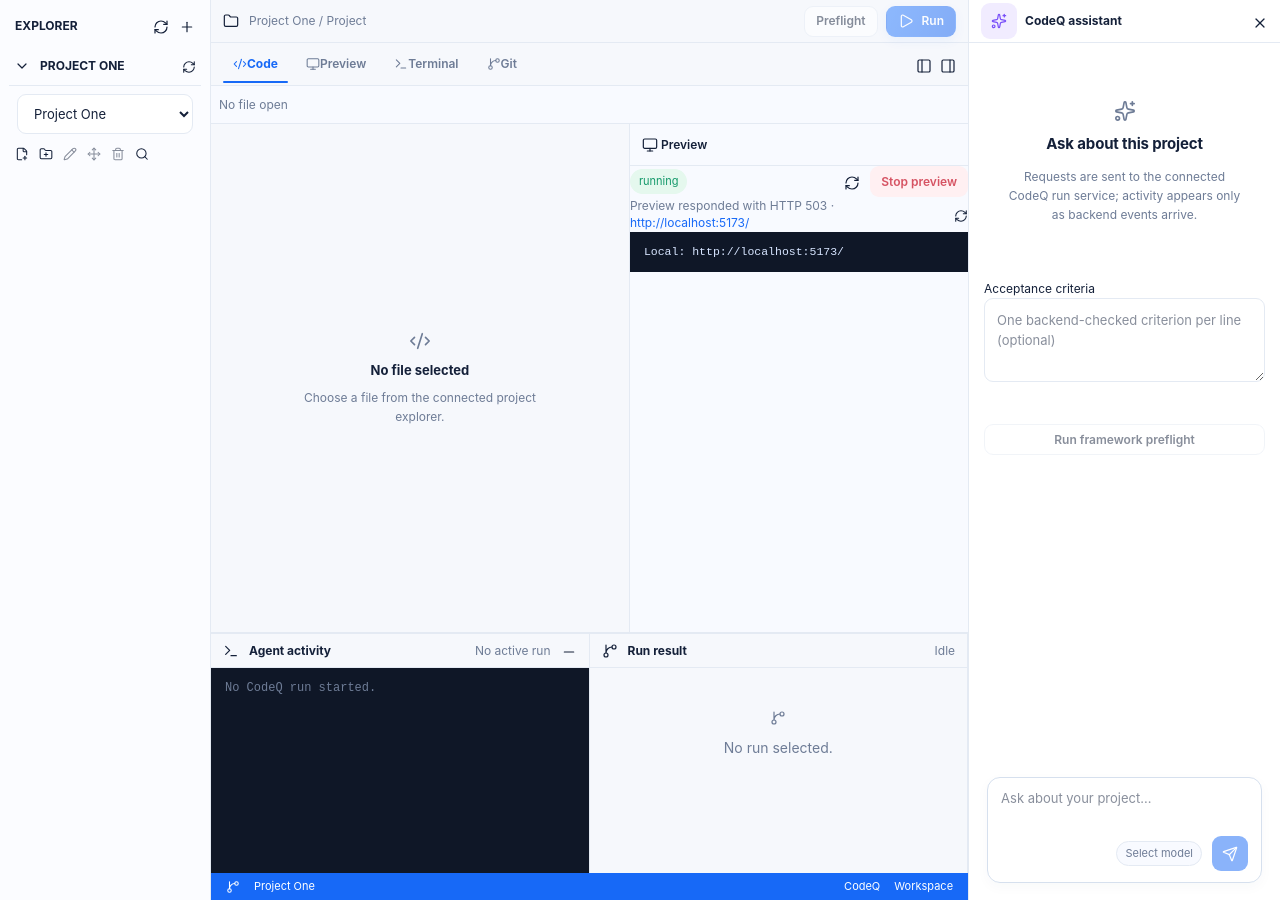
Test: workspace backend integrations › shows a real not-ready response and recovers after a manual readiness retry
Check: the text "Preview responded with HTTP 503 · http://localhost:5173/" is shown, box x1=630 y1=198 x2=834 y2=230
Click the button named "Retry preview readiness check": (961, 214) x1=954 y1=204 x2=968 y2=225
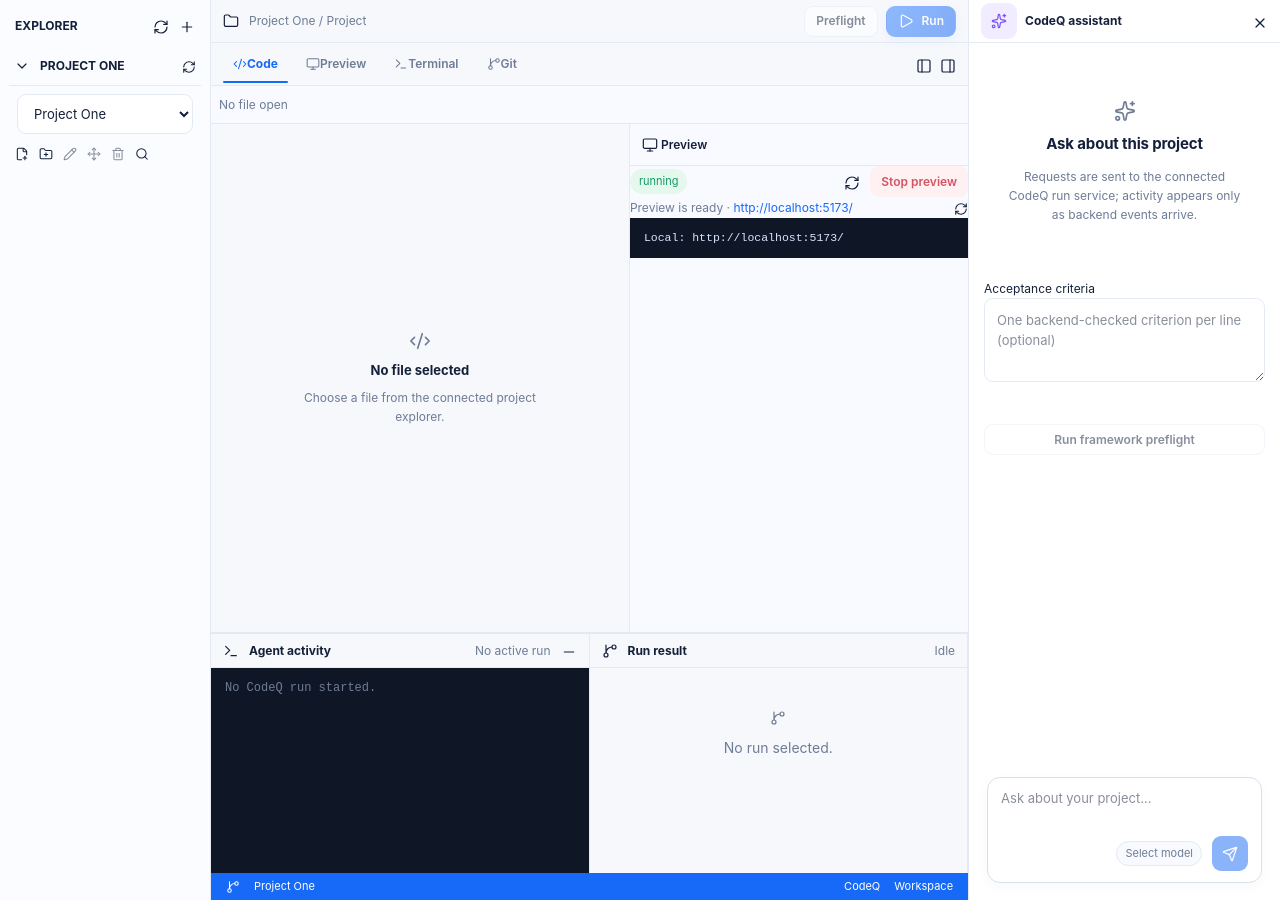
Check: the text "Preview is ready · http://localhost:5173/" is shown, box x1=630 y1=199 x2=853 y2=216
